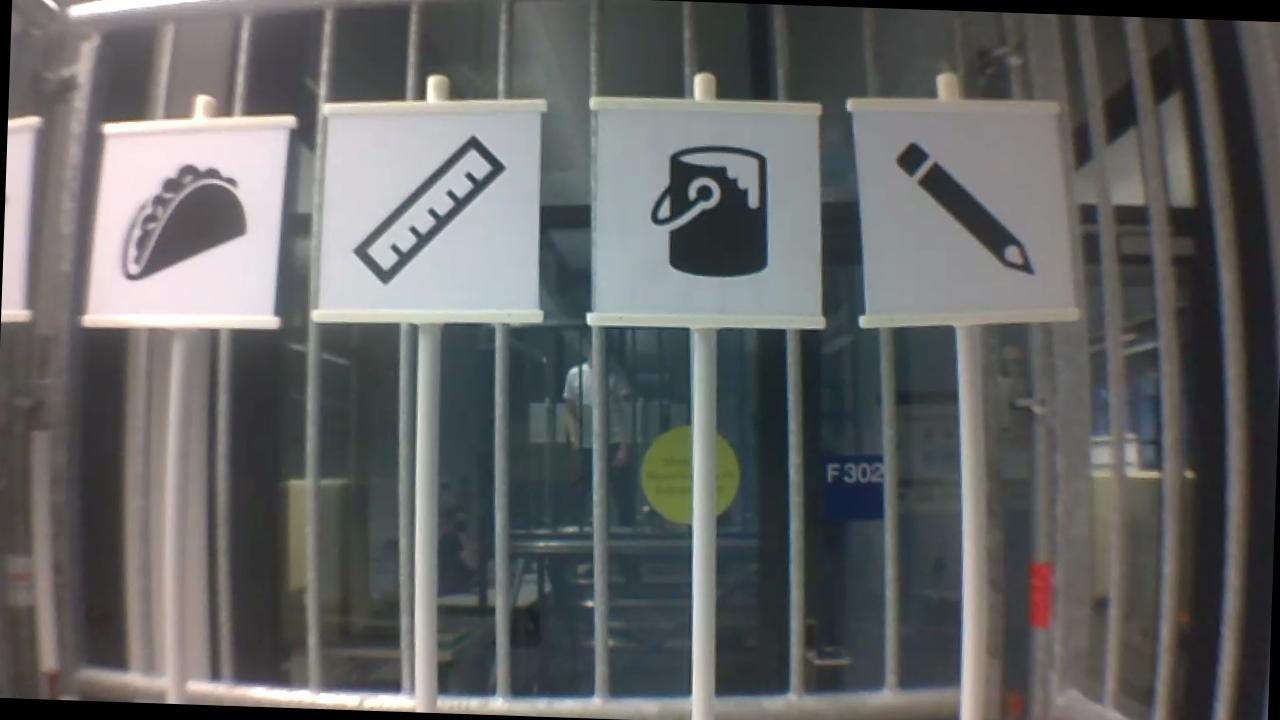bucket: (641, 142, 777, 282)
pencil: (878, 135, 1048, 287)
ruler: (344, 124, 513, 293)
taco: (117, 156, 253, 290)
